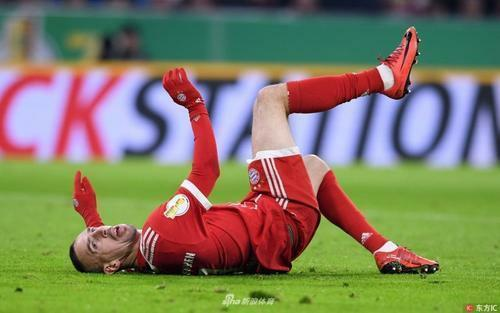Fall-Detected: (51, 15, 444, 288)
